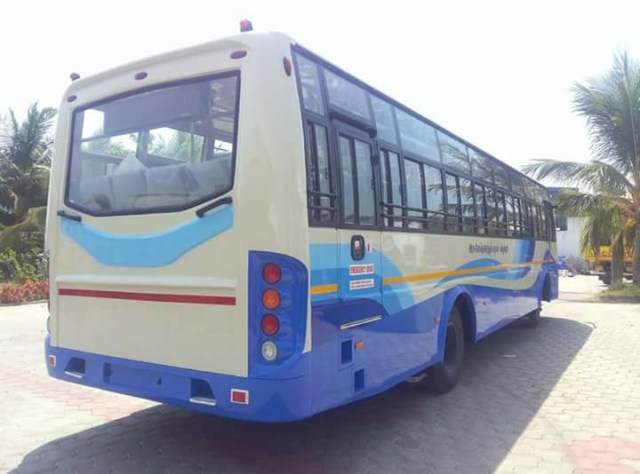bus: (57, 80, 565, 404)
